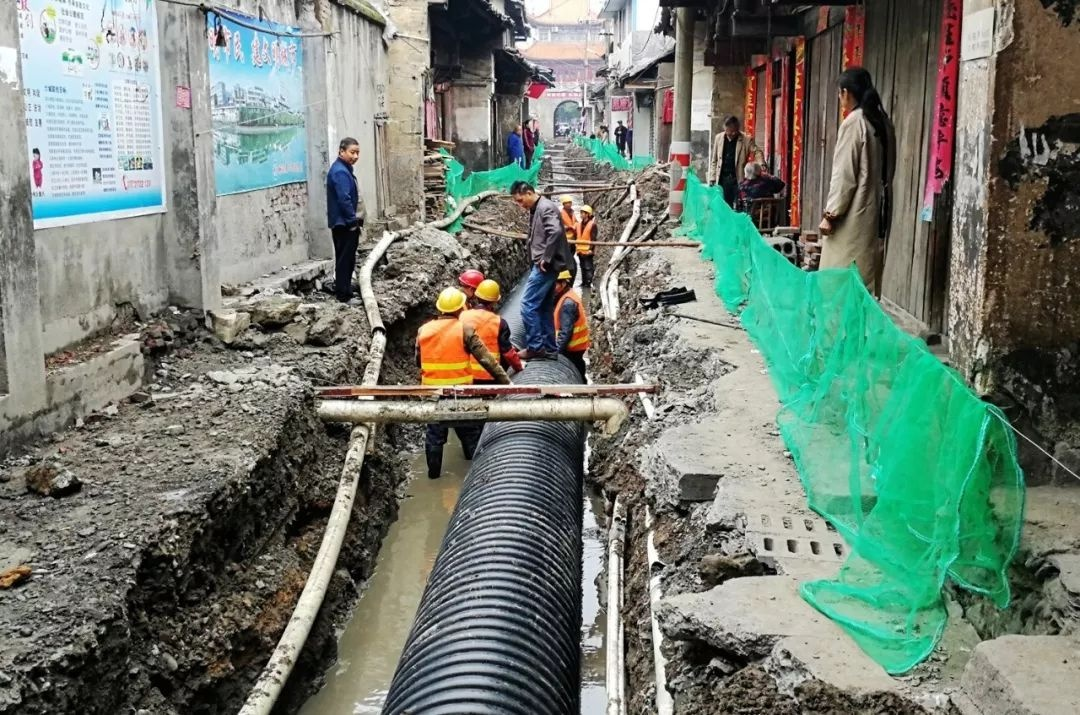none: (835, 62, 874, 112), (509, 179, 535, 208), (337, 136, 362, 166), (720, 114, 741, 138)
red: (458, 271, 483, 296)
yellow: (435, 285, 464, 318), (476, 280, 501, 307), (553, 268, 572, 292), (578, 204, 593, 221), (560, 195, 573, 209)
